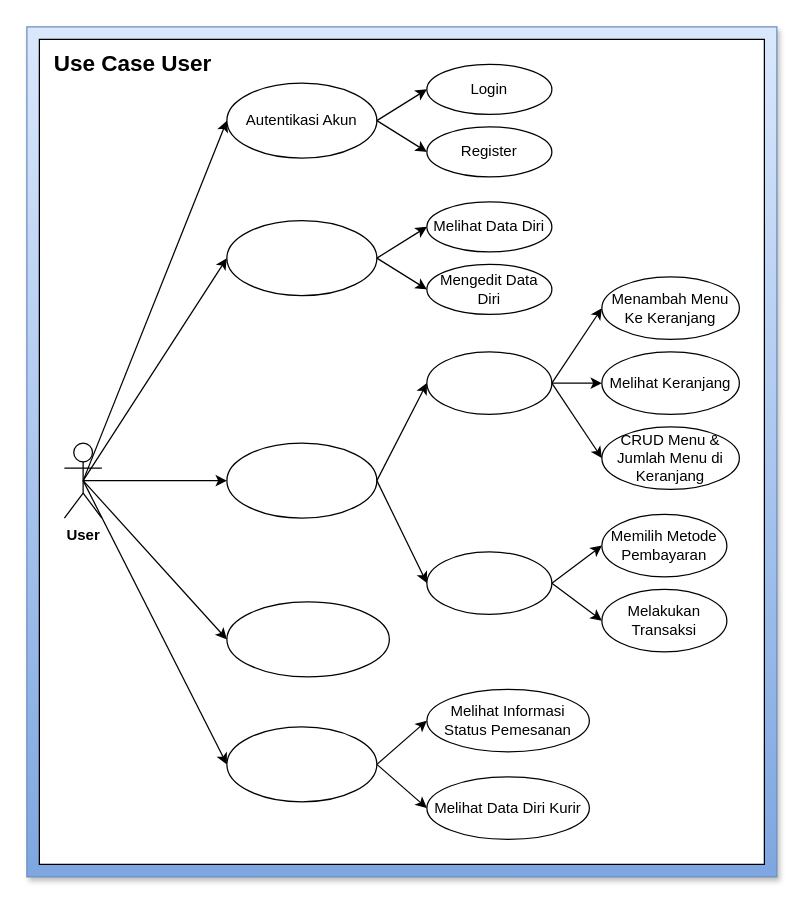
The diagram is 806 pixels wide and 908 high, and some of its shapes have lost their labels. The shapes that lost their labels are listed below. From the top down, each one's centre as x and y in pixels, then its label:
At (301,257): "Kelola Informasi Pengguna".
At (489,382): "Pemesanan".
At (301,480): "Transaksi".
At (489,582): "Pembayaran".
At (307,639): "Melihat Katalog Menu di Landing Page".
At (301,764): "Cek Status Pemesanan".
